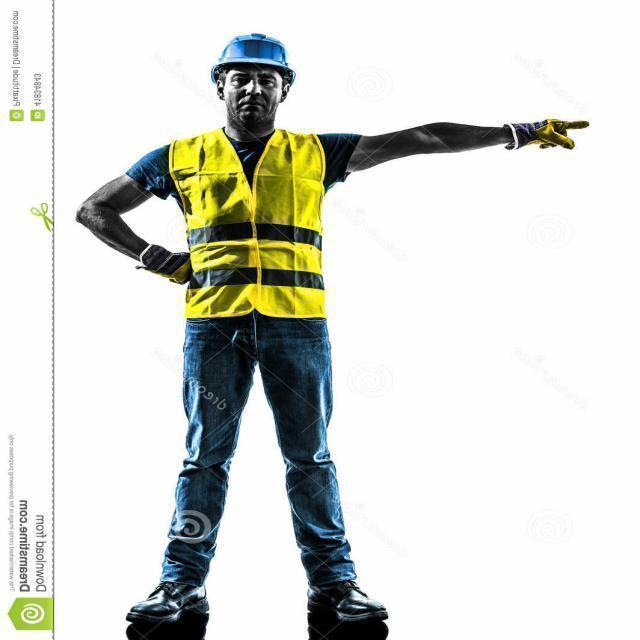helmet: (204, 18, 303, 97)
safety_vest: (170, 121, 342, 335)
